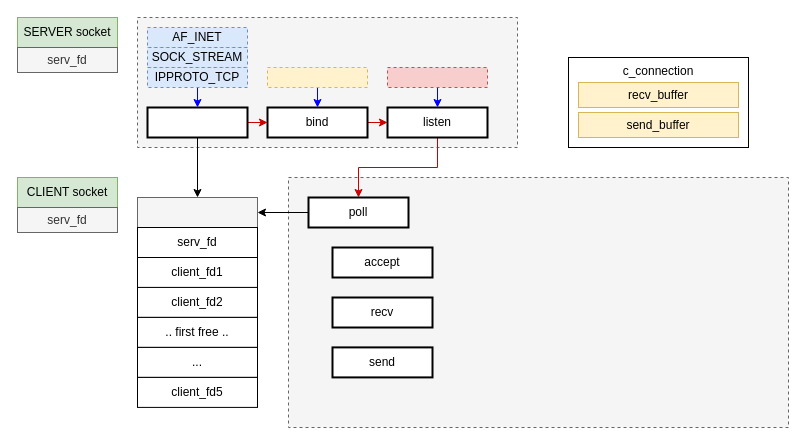
Image size: 806x445. Some labels were removed from this diagram. The shapes that lost their labels are listed below. From the top down, each one's centre as x and y in pixels, then its label:
the point at 317,77: bind_addr
the point at 437,77: count
the point at 197,122: socket
the point at 197,212: fds
